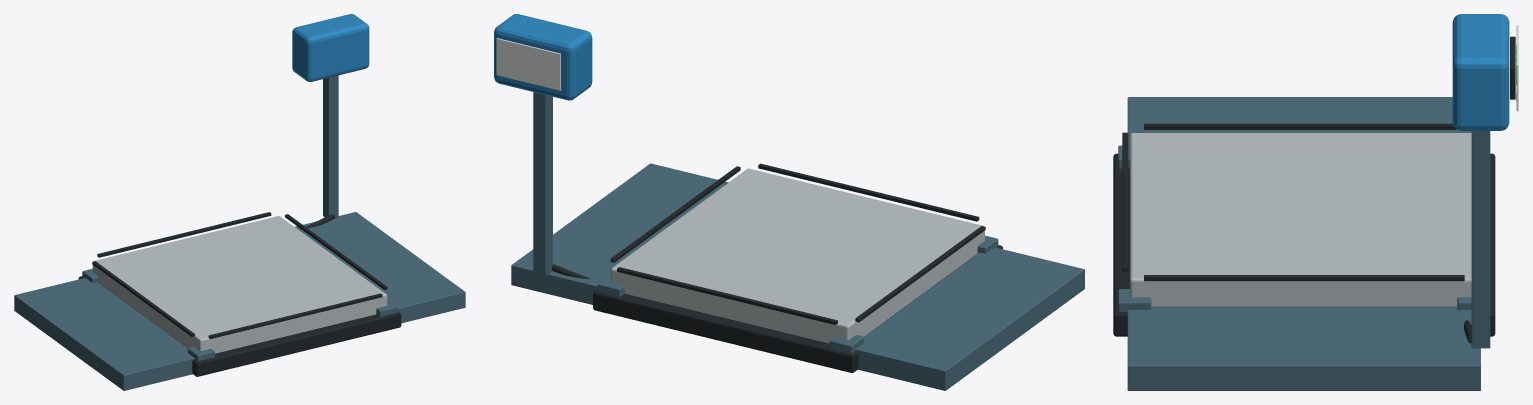
File: industrial_floor_scale.glb
3 views of the same model, side by side, from view 1: azimuth 30°, elevation 25°; view 2: azimuth 150°, elevation 25°; view 3: azimuth 270°, elevation 25° (orthographic). The views are drawn at different scales.
Parts seen in each view (by area): view 1: SCALE_deck, SCALE_ramp_in, SCALE_ramp_out, DISPLAY_head, SCALE_base, DISPLAY_post, SCALE_deck_border_0.76, SCALE_deck_border_-0.76, SCALE_deck_border_0.001, SCALE_deck_border_-0.001; view 2: SCALE_deck, SCALE_ramp_in, SCALE_ramp_out, SCALE_base, DISPLAY_head, DISPLAY_post, DISPLAY_face_border, SCALE_deck_border_-0.76, SCALE_deck_border_0.76, SCALE_deck_border_-0.001, SCALE_deck_border_0.001; view 3: SCALE_deck, SCALE_ramp_out, SCALE_ramp_in, DISPLAY_head, DISPLAY_post, SCALE_base, SCALE_deck_border_0.001, SCALE_deck_border_-0.001, SCALE_deck_border_-0.76, SCALE_corner_guard_0.72_-0.72, DISPLAY_screen.
Part boxes in pixels (x1,y1,x2,y2): SCALE_deck: (92,216,387,353); SCALE_ramp_in: (14,278,194,390); SCALE_ramp_out: (295,212,465,323); DISPLAY_head: (292,14,369,81); SCALE_base: (78,276,401,376); DISPLAY_post: (323,75,338,218); SCALE_deck_border_0.76: (97,212,271,257); SCALE_deck_border_-0.76: (208,293,382,338); SCALE_deck_border_0.001: (285,214,387,289); SCALE_deck_border_-0.001: (92,261,194,336); SCALE_deck: (611,168,984,343); SCALE_ramp_in: (855,247,1084,390); SCALE_ramp_out: (511,163,728,304); SCALE_base: (593,245,1002,372); DISPLAY_head: (494,14,592,100); DISPLAY_post: (533,92,552,275); DISPLAY_face_border: (496,38,560,90); SCALE_deck_border_-0.76: (758,163,979,221); SCALE_deck_border_0.76: (617,267,837,324); SCALE_deck_border_-0.001: (855,226,985,322); SCALE_deck_border_0.001: (610,166,740,262); SCALE_deck: (1130,133,1471,306); SCALE_ramp_out: (1127,306,1480,390); SCALE_ramp_in: (1127,97,1471,145); DISPLAY_head: (1452,14,1509,130); DISPLAY_post: (1471,131,1490,348); SCALE_base: (1113,153,1495,336); SCALE_deck_border_0.001: (1144,275,1464,281); SCALE_deck_border_-0.001: (1144,123,1456,129); SCALE_deck_border_-0.76: (1122,132,1128,271); SCALE_corner_guard_0.72_-0.72: (1118,289,1151,311); DISPLAY_screen: (1510,36,1515,99).
Bounding box in the file's own units: 2.75 × 1.57 × 1.72.
